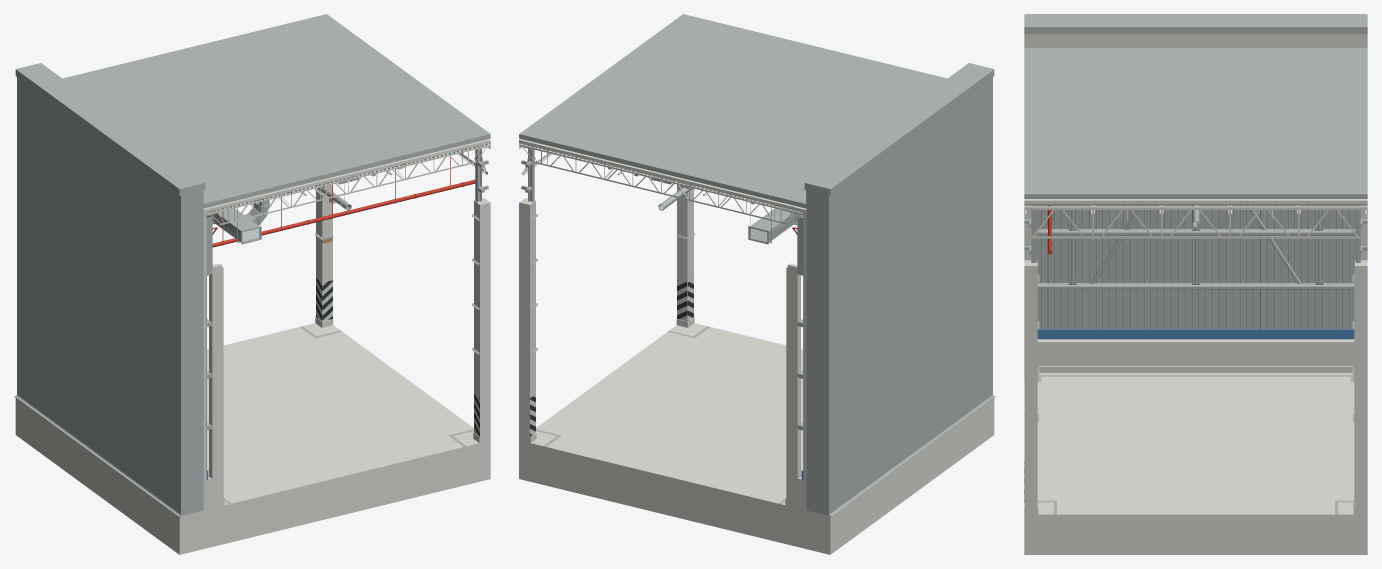
The model's file is modular_warehouse_h10m_straight_a04.glb.
3 views of the same model, side by side, from view 1: azimuth 30°, elevation 25°; view 2: azimuth 150°, elevation 25°; view 3: azimuth 270°, elevation 25° (orthographic). The views are drawn at different scales.
Size of the model in its own units: 11 by 12.3 by 10.
